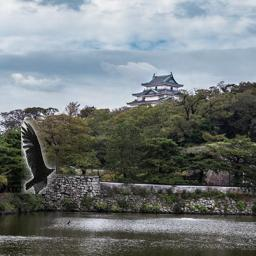Crow: (21, 120, 56, 194)
